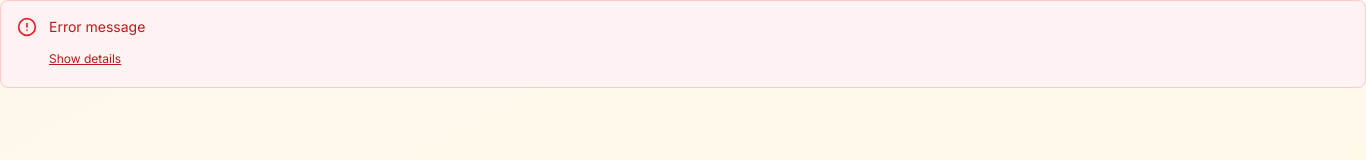
Test: ErrorMessage › toggles detail text when showDetails is true
Expected: the text "Detailed error information" is not shown
# Click show details button
Click the button "Show details".
click(85, 59)  # box [49,51,121,67]
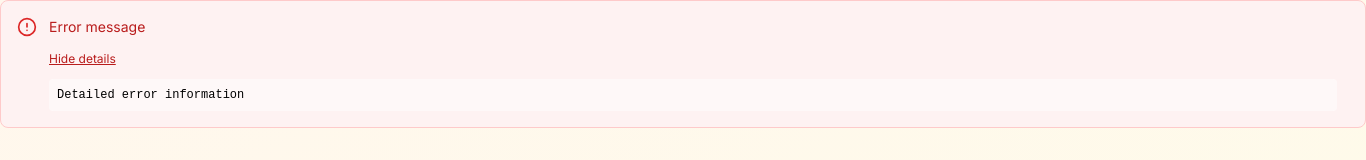
Now the text "Detailed error information" is shown, box [49,79,1337,111]
Now the button "Hide details" is shown
# Click hide details button
Click the button "Hide details".
click(82, 59)  # box [49,51,116,67]
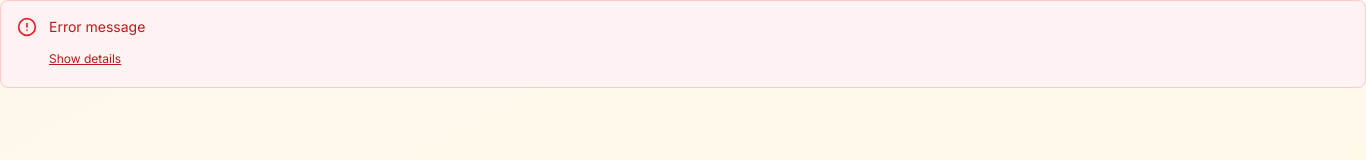
Now the text "Detailed error information" is gone
